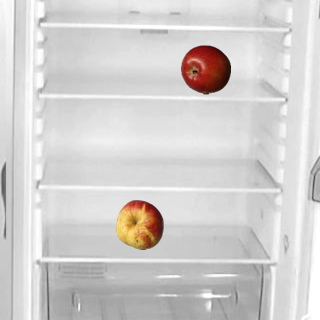Apple Braeburn: (180, 44, 230, 94)
Apple Red Yellow 1: (114, 199, 164, 249)
